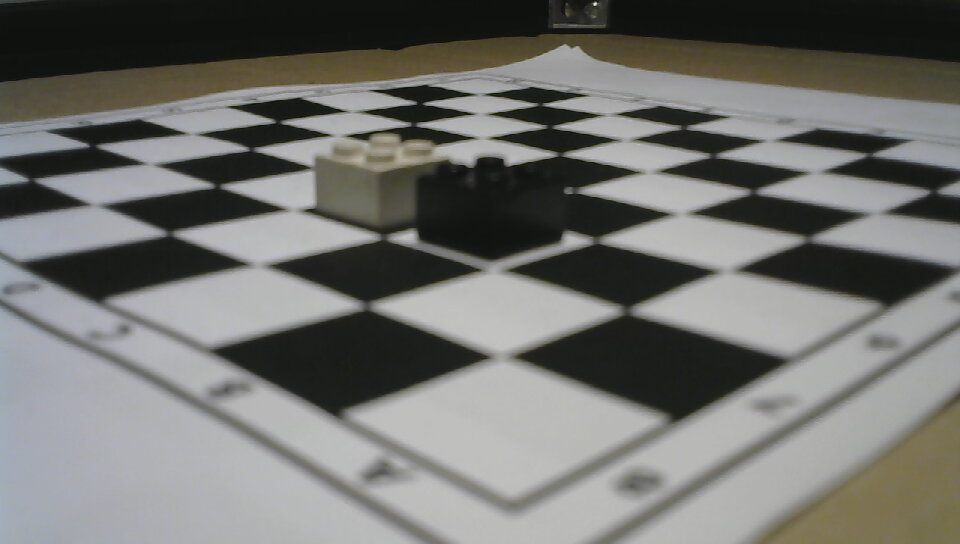wp: (301, 122, 413, 237)
